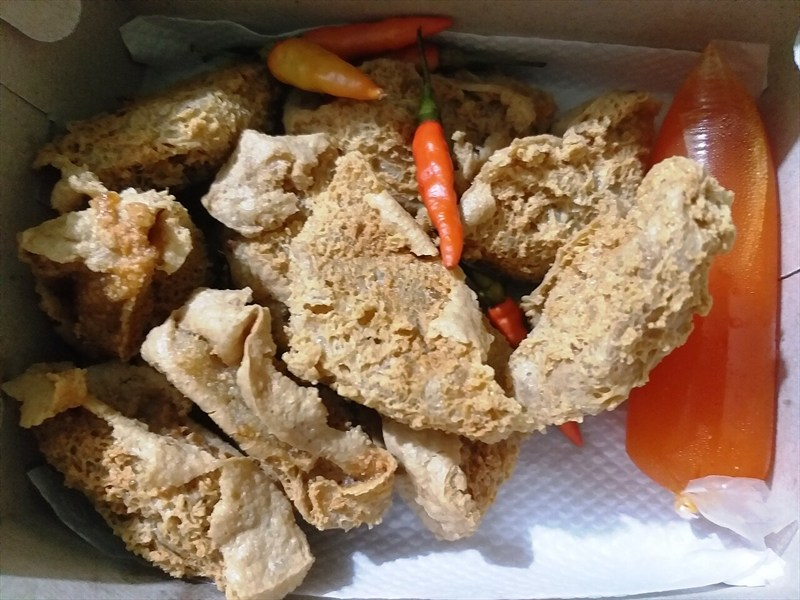Tahu Goreng: (107, 119, 698, 561)
